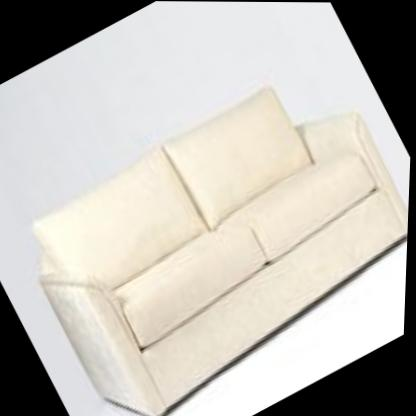Sofa: (0, 47, 415, 416)
